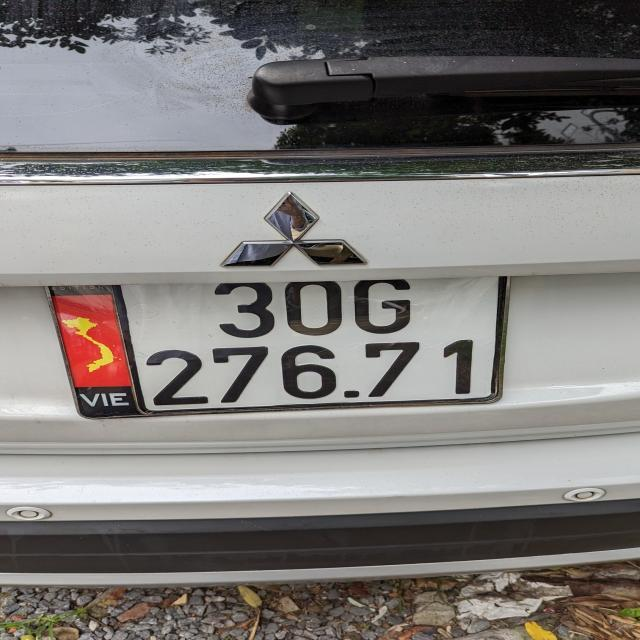license: (47, 273, 510, 418)
